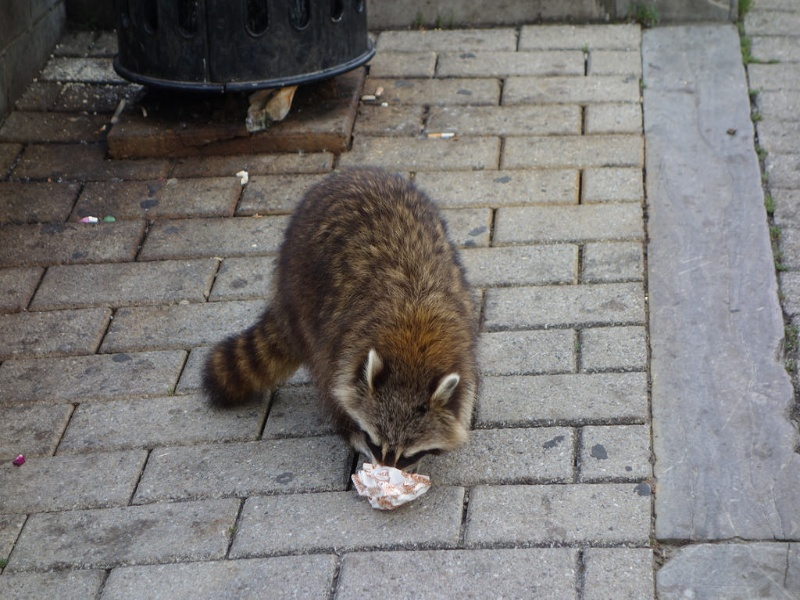raccoon: (195, 161, 487, 496)
